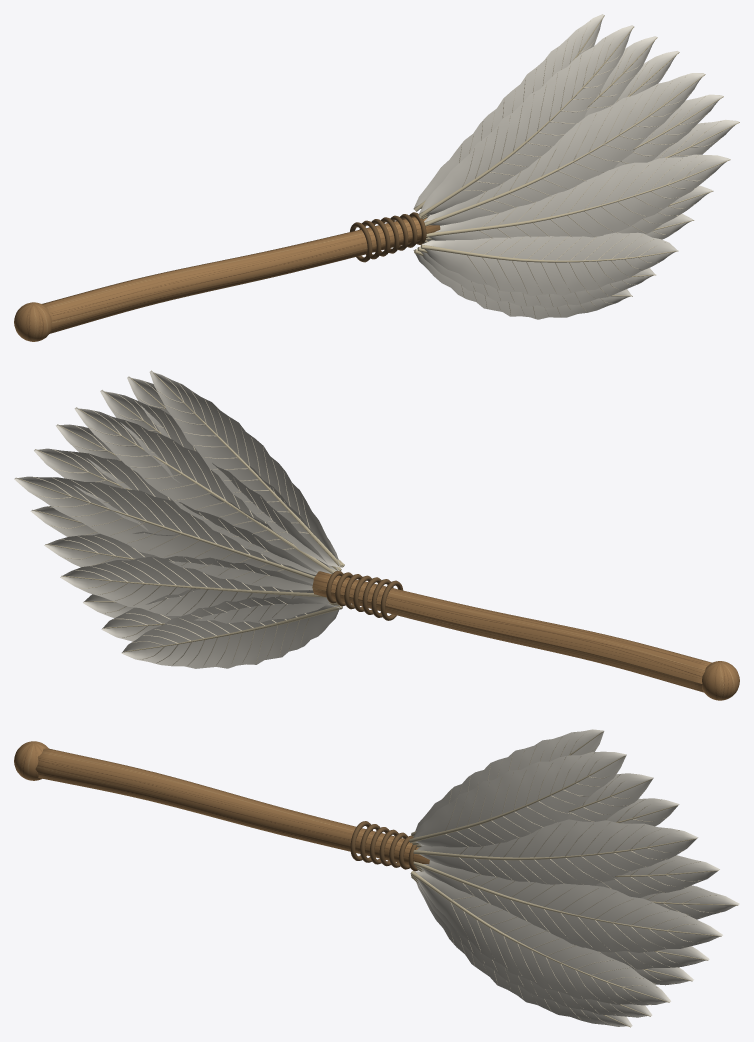
The model's file is props_p3_items__p3_swatter.glb.
The picture shows the model from 3 angles, top to bottom: view 1: azimuth 30°, elevation 25°; view 2: azimuth 150°, elevation 25°; view 3: azimuth 330°, elevation 25°; orthographic projection.
Parts seen in each view (by area): view 1: reference_static_surfaces (×5); view 2: reference_static_surfaces (×5); view 3: reference_static_surfaces (×5).
Boxes of the visible parts, x1,y1,x2,y2 form: reference_static_surfaces (×5): (14, 14, 739, 341); reference_static_surfaces (×5): (14, 370, 739, 700); reference_static_surfaces (×5): (14, 729, 739, 1027).
Bounding box in the file's own units: 0.4775 × 0.185 × 0.0267.
Materials: 5 (1 with a texture image).
